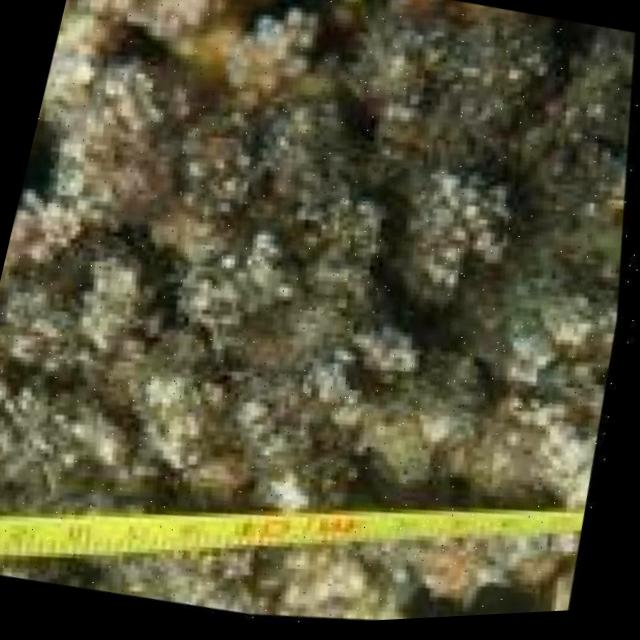Dead Coral: (106, 0, 640, 475)
